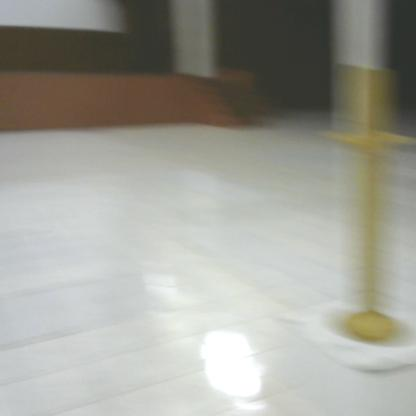pole: (317, 60, 416, 355)
